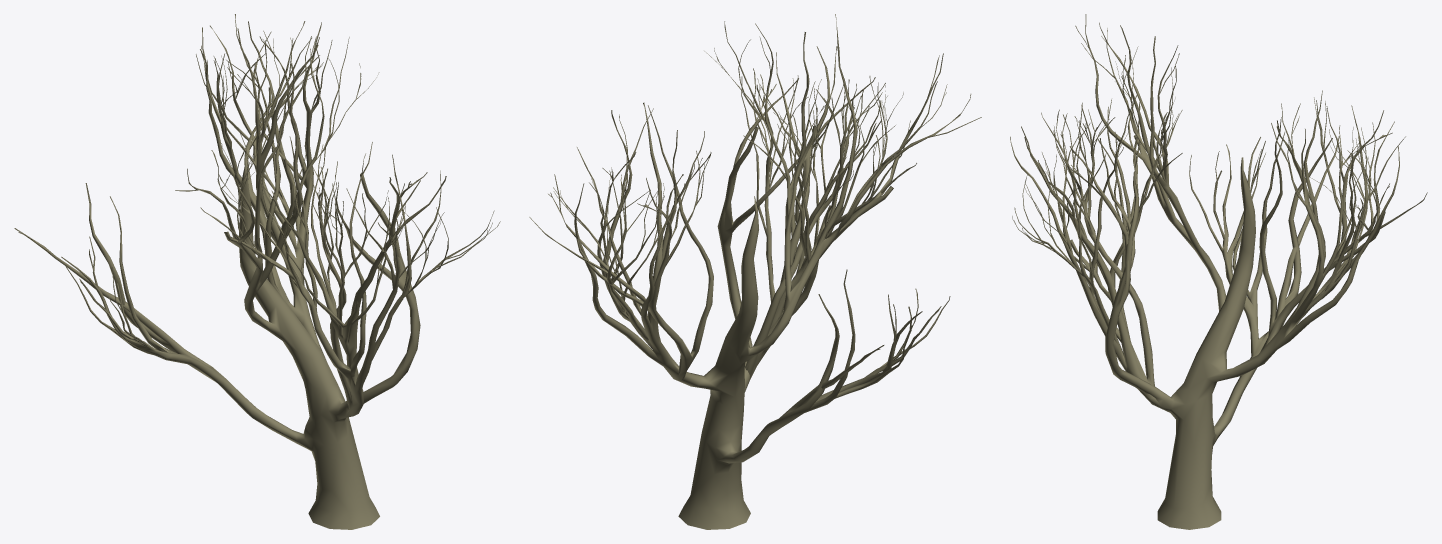
File: l_drzewo_matka_chore_LOD1.fbx
3 renders of one model, left to right at view 1: azimuth 30°, elevation 25°; view 2: azimuth 150°, elevation 25°; view 3: azimuth 270°, elevation 25°, orthographic. The views are drawn at different scales.
Parts seen in each view (by area): view 1: tree; view 2: tree; view 3: tree.
Boxes of the visible parts, bbox=[...] form: tree: bbox=[14, 14, 500, 529]; tree: bbox=[529, 14, 981, 529]; tree: bbox=[1010, 14, 1427, 529].
Bounding box in the file's own units: 763 × 1124 × 934.
